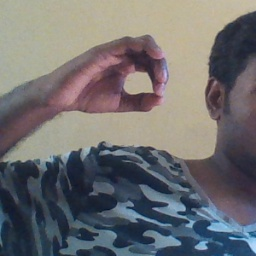O: (53, 30, 172, 118)
